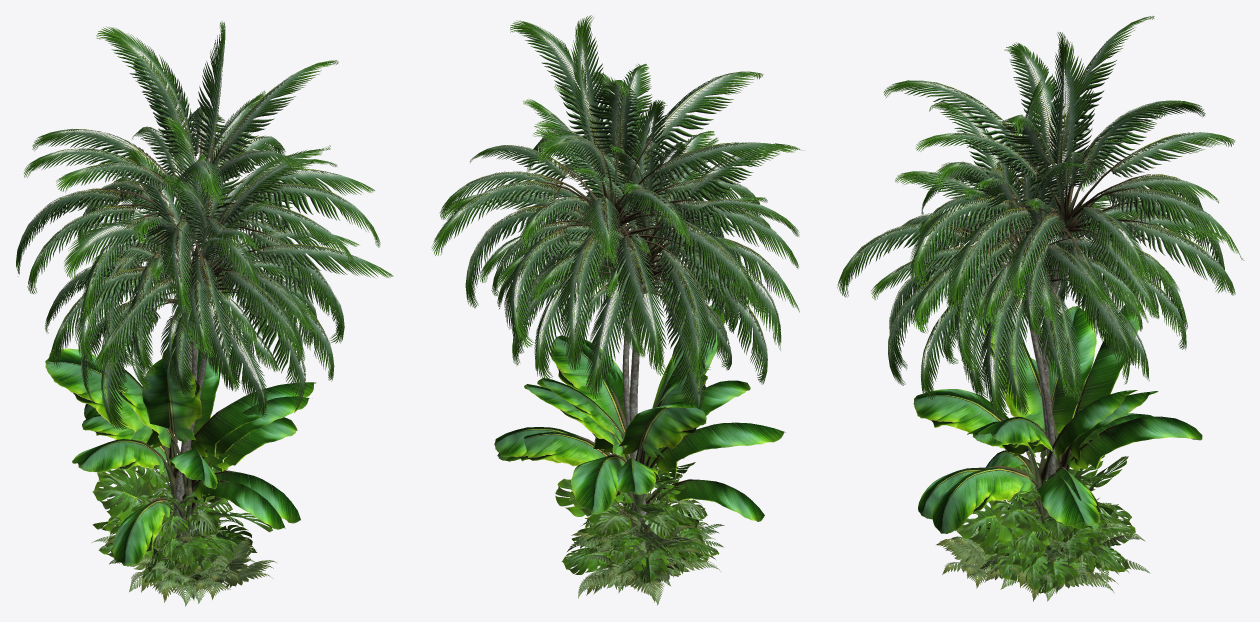
Rendered from tropical_pack.glb.
3 views of the same model, side by side, from view 1: azimuth 30°, elevation 25°; view 2: azimuth 150°, elevation 25°; view 3: azimuth 270°, elevation 25° (orthographic). The views are drawn at different scales.
Parts seen in each view (by area): view 1: palm_b, palm_a, palm_c, banana_b, banana_a, monstera_a, monstera_c, monstera_b, fern_a, monstera_d, fern_c, fern_sb (+1 smaller); view 2: palm_b, palm_a, banana_b, palm_c, banana_a, monstera_a, monstera_b, fern_b, monstera_c, fern_a, monstera_d, fern_sb (+2 smaller); view 3: palm_b, palm_a, palm_c, banana_b, banana_a, monstera_b, monstera_d, monstera_c, monstera_a, fern_a, fern_b, fern_c (+2 smaller).
Boxes of the visible parts, x1=… form: palm_b: x1=16, y1=21, x2=380, y2=536; palm_a: x1=45, y1=123, x2=393, y2=536; palm_c: x1=74, y1=116, x2=317, y2=535; banana_b: x1=45, y1=326, x2=316, y2=523; banana_a: x1=82, y1=336, x2=309, y2=566; monstera_a: x1=92, y1=452, x2=232, y2=582; monstera_c: x1=92, y1=469, x2=252, y2=571; monstera_b: x1=108, y1=465, x2=247, y2=581; fern_a: x1=105, y1=503, x2=276, y2=599; monstera_d: x1=96, y1=466, x2=272, y2=573; fern_c: x1=146, y1=497, x2=235, y2=600; fern_sb: x1=109, y1=530, x2=254, y2=606; palm_b: x1=431, y1=15, x2=802, y2=526; palm_a: x1=442, y1=71, x2=799, y2=458; banana_b: x1=497, y1=303, x2=786, y2=531; palm_c: x1=479, y1=100, x2=771, y2=408; banana_a: x1=494, y1=339, x2=764, y2=525; monstera_a: x1=564, y1=468, x2=719, y2=583; monstera_b: x1=561, y1=458, x2=703, y2=574; fern_b: x1=568, y1=528, x2=713, y2=598; monstera_c: x1=569, y1=449, x2=702, y2=574; fern_a: x1=592, y1=493, x2=708, y2=586; monstera_d: x1=555, y1=466, x2=702, y2=567; fern_sb: x1=569, y1=512, x2=720, y2=605; palm_b: x1=883, y1=16, x2=1244, y2=475; palm_a: x1=837, y1=102, x2=1187, y2=477; palm_c: x1=901, y1=77, x2=1227, y2=480; banana_b: x1=932, y1=290, x2=1202, y2=533; banana_a: x1=913, y1=306, x2=1153, y2=548; monstera_b: x1=986, y1=450, x2=1135, y2=593; monstera_d: x1=956, y1=456, x2=1128, y2=581; monstera_c: x1=982, y1=455, x2=1116, y2=590; monstera_a: x1=978, y1=462, x2=1131, y2=586; fern_a: x1=936, y1=510, x2=1118, y2=588; fern_b: x1=962, y1=502, x2=1149, y2=585; fern_c: x1=951, y1=521, x2=1129, y2=593.
Size of the model in its own units: 4.76 by 7.5 by 4.85.
Materials: 24 (24 with a texture image).
